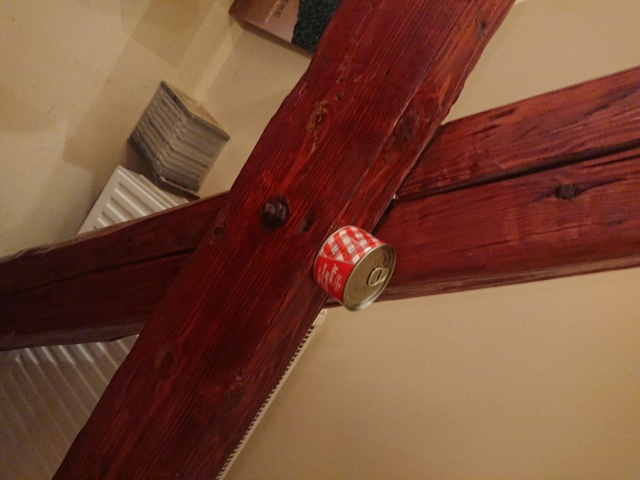Podravka Luncheon Meat 150g: (310, 221, 398, 315)
